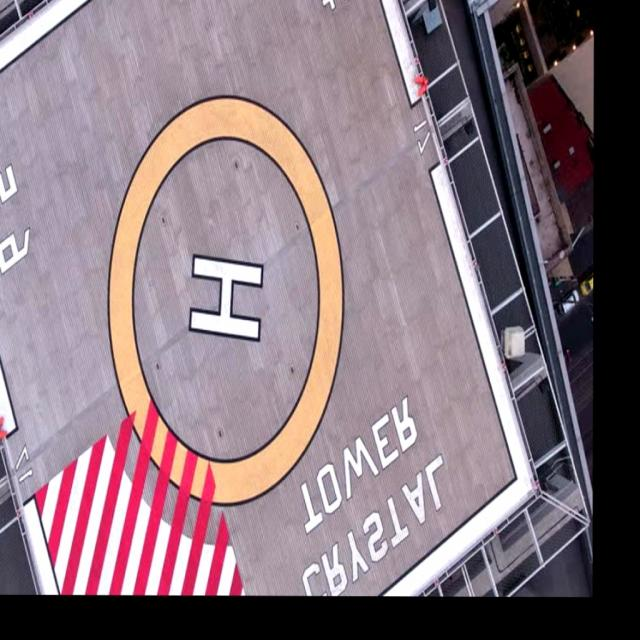helipad: (104, 90, 348, 512)
